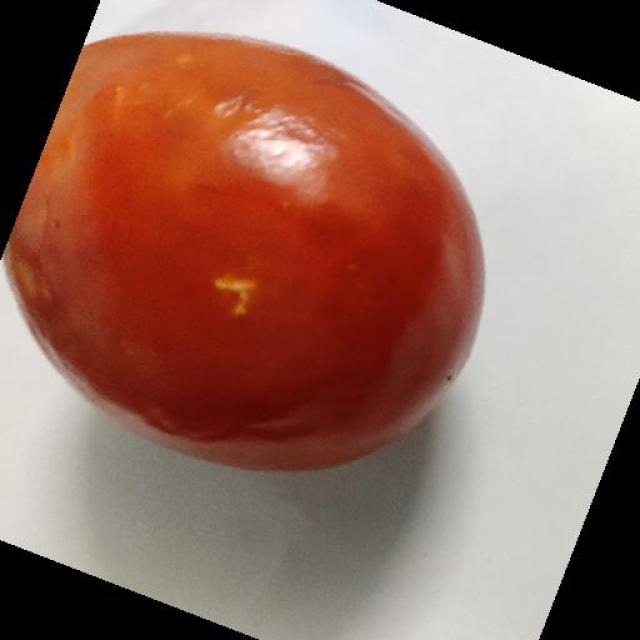Fresh_tomato: (427, 32, 492, 52)
Stale_tomato: (17, 30, 428, 458)
